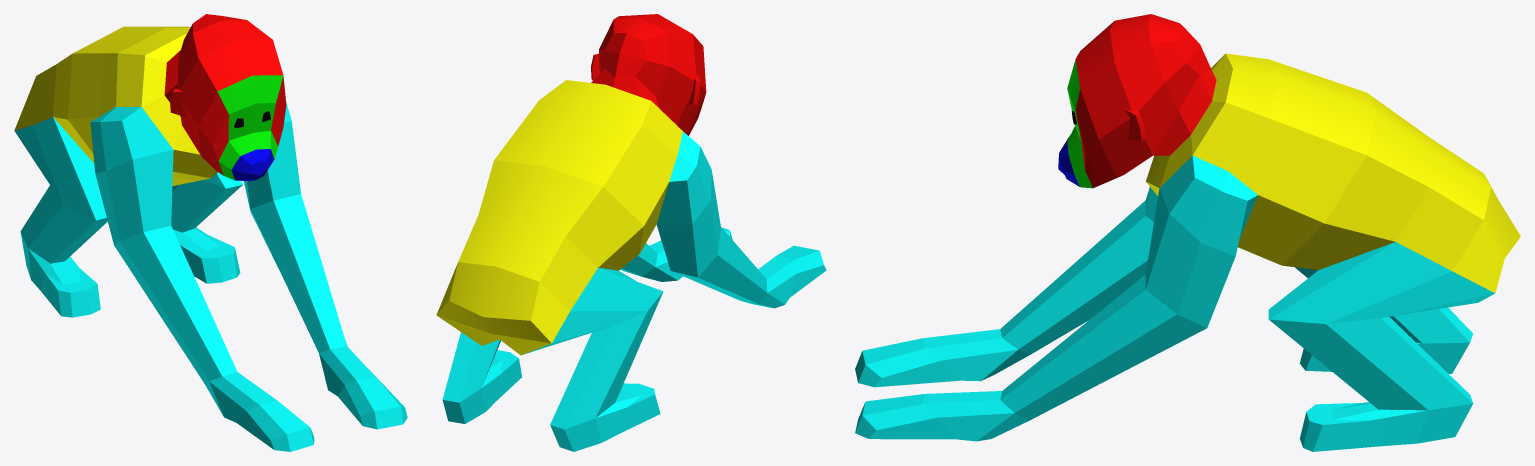
File: Singe.obj
3 renders of one model, left to right at view 1: azimuth 30°, elevation 25°; view 2: azimuth 150°, elevation 25°; view 3: azimuth 270°, elevation 25°, orthographic. The views are drawn at different scales.
Parts seen in each view (by area): view 1: Zone_5, Zone_4, Zone_1, Zone_2, Zone_3; view 2: Zone_4, Zone_5, Zone_1; view 3: Zone_5, Zone_4, Zone_1, Zone_2.
Boxes of the visible parts, left/top/right/bottom form: Zone_5: left=14, top=101, right=407, bottom=451; Zone_4: left=14, top=26, right=217, bottom=185; Zone_1: left=164, top=14, right=286, bottom=175; Zone_2: left=217, top=75, right=283, bottom=180; Zone_3: left=231, top=149, right=274, bottom=181; Zone_4: left=436, top=80, right=682, bottom=355; Zone_5: left=442, top=131, right=826, bottom=451; Zone_1: left=591, top=14, right=706, bottom=135; Zone_5: left=855, top=155, right=1494, bottom=451; Zone_4: left=1146, top=53, right=1520, bottom=293; Zone_1: left=1075, top=14, right=1216, bottom=188; Zone_2: left=1067, top=59, right=1092, bottom=188.
Size of the model in its own units: 29.11 by 49.02 by 77.89.
